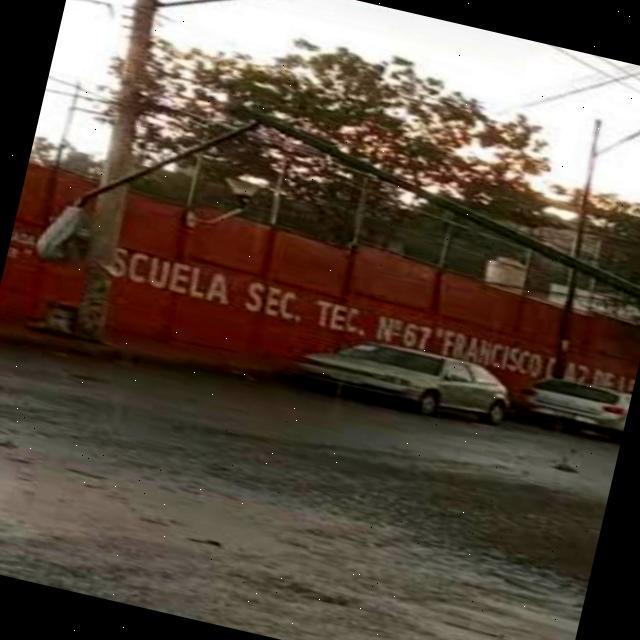Broken Pole: (28, 100, 640, 304)
